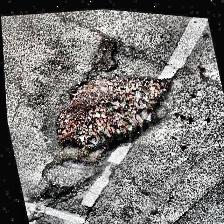pothole: (39, 57, 187, 181)
